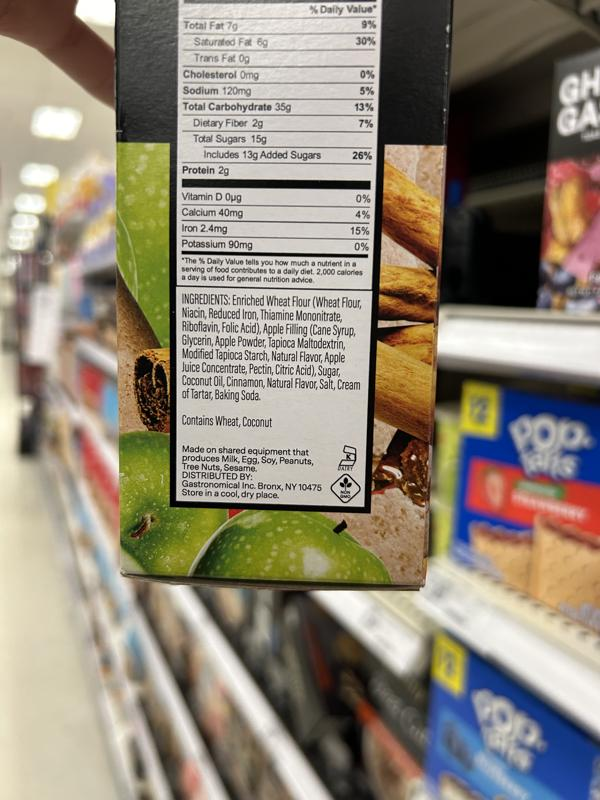ingredients: (178, 290, 365, 405)
